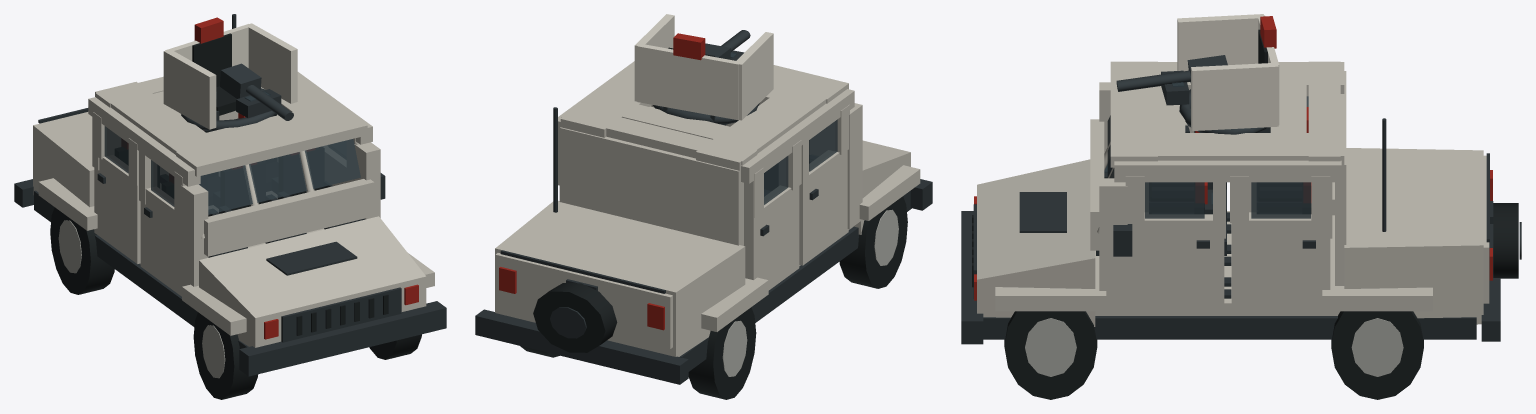
The picture shows the model from 3 angles, left to right: view 1: azimuth 30°, elevation 25°; view 2: azimuth 150°, elevation 25°; view 3: azimuth 270°, elevation 25°; orthographic projection. The views are drawn at different scales.
Parts seen in each view (by area): view 1: humvee-painted, humvee-glazing, turret-fleet-armor, crew-chair-gunner-painted, wheel--1--1.93-fleet-rubber, wheel--1-1.52-fleet-rubber, crew-chair-front-center-painted, crew-chair-passenger-painted, breakaway-2-painted, barrel-fleet-machine, breakaway-1-painted, wheel--1-1.52-fleet-edge (+6 smaller); view 2: humvee-painted, turret-fleet-armor, wheel--1--1.93-fleet-rubber, wheel--1-1.52-fleet-rubber, humvee-glazing, breakaway-1-painted, breakaway-2-painted, wheel--1-1.52-fleet-edge, wheel--1--1.93-fleet-edge, crew-chair-gunner-painted, barrel-fleet-machine, turret-fleet-machine; view 3: humvee-painted, turret-fleet-armor, humvee-glazing, wheel-1--1.93-fleet-rubber, wheel-1-1.52-fleet-rubber, wheel-1-1.52-fleet-edge, wheel-1--1.93-fleet-edge, crew-chair-gunner-painted, barrel-fleet-machine, crew-chair-rear-center-painted, crew-chair-rear-left-painted, crew-chair-front-center-painted (+3 smaller).
Part boxes in pixels (x1,y1,x2,y2): humvee-painted: (14,14,446,376); humvee-glazing: (104,126,360,214); turret-fleet-armor: (163,23,297,129); crew-chair-gunner-painted: (192,17,281,119); wheel--1--1.93-fleet-rubber: (50,207,114,294); wheel--1-1.52-fleet-rubber: (193,312,258,399); crew-chair-front-center-painted: (219,161,306,243); crew-chair-passenger-painted: (277,147,364,229); breakaway-2-painted: (182,284,246,335); barrel-fleet-machine: (220,63,293,120); breakaway-1-painted: (38,178,97,230); wheel--1-1.52-fleet-edge: (202,325,225,378); humvee-painted: (475,61,932,384); turret-fleet-armor: (634,14,773,120); wheel--1--1.93-fleet-rubber: (688,307,756,399); wheel--1-1.52-fleet-rubber: (839,196,907,288); humvee-glazing: (764,119,837,204); breakaway-1-painted: (701,277,768,331); breakaway-2-painted: (859,165,920,220); wheel--1-1.52-fleet-edge: (874,209,898,265); wheel--1--1.93-fleet-edge: (722,320,747,376); crew-chair-gunner-painted: (663,33,744,125); barrel-fleet-machine: (705,30,750,59); turret-fleet-machine: (653,103,759,124); humvee-painted: (961,61,1521,344); turret-fleet-armor: (1177,14,1279,130); humvee-glazing: (1107,96,1310,218); wheel-1--1.93-fleet-rubber: (1331,311,1423,399); wheel-1-1.52-fleet-rubber: (1004,311,1097,399); wheel-1-1.52-fleet-edge: (1025,318,1076,376); wheel-1--1.93-fleet-edge: (1351,318,1403,376); crew-chair-gunner-painted: (1161,16,1276,132); barrel-fleet-machine: (1116,55,1227,91); crew-chair-rear-center-painted: (1205,187,1301,265); crew-chair-rear-left-painted: (1207,107,1308,233); crew-chair-front-center-painted: (1149,187,1193,213).
Size of the model in its own units: 15.06 by 19.71 by 31.05.
